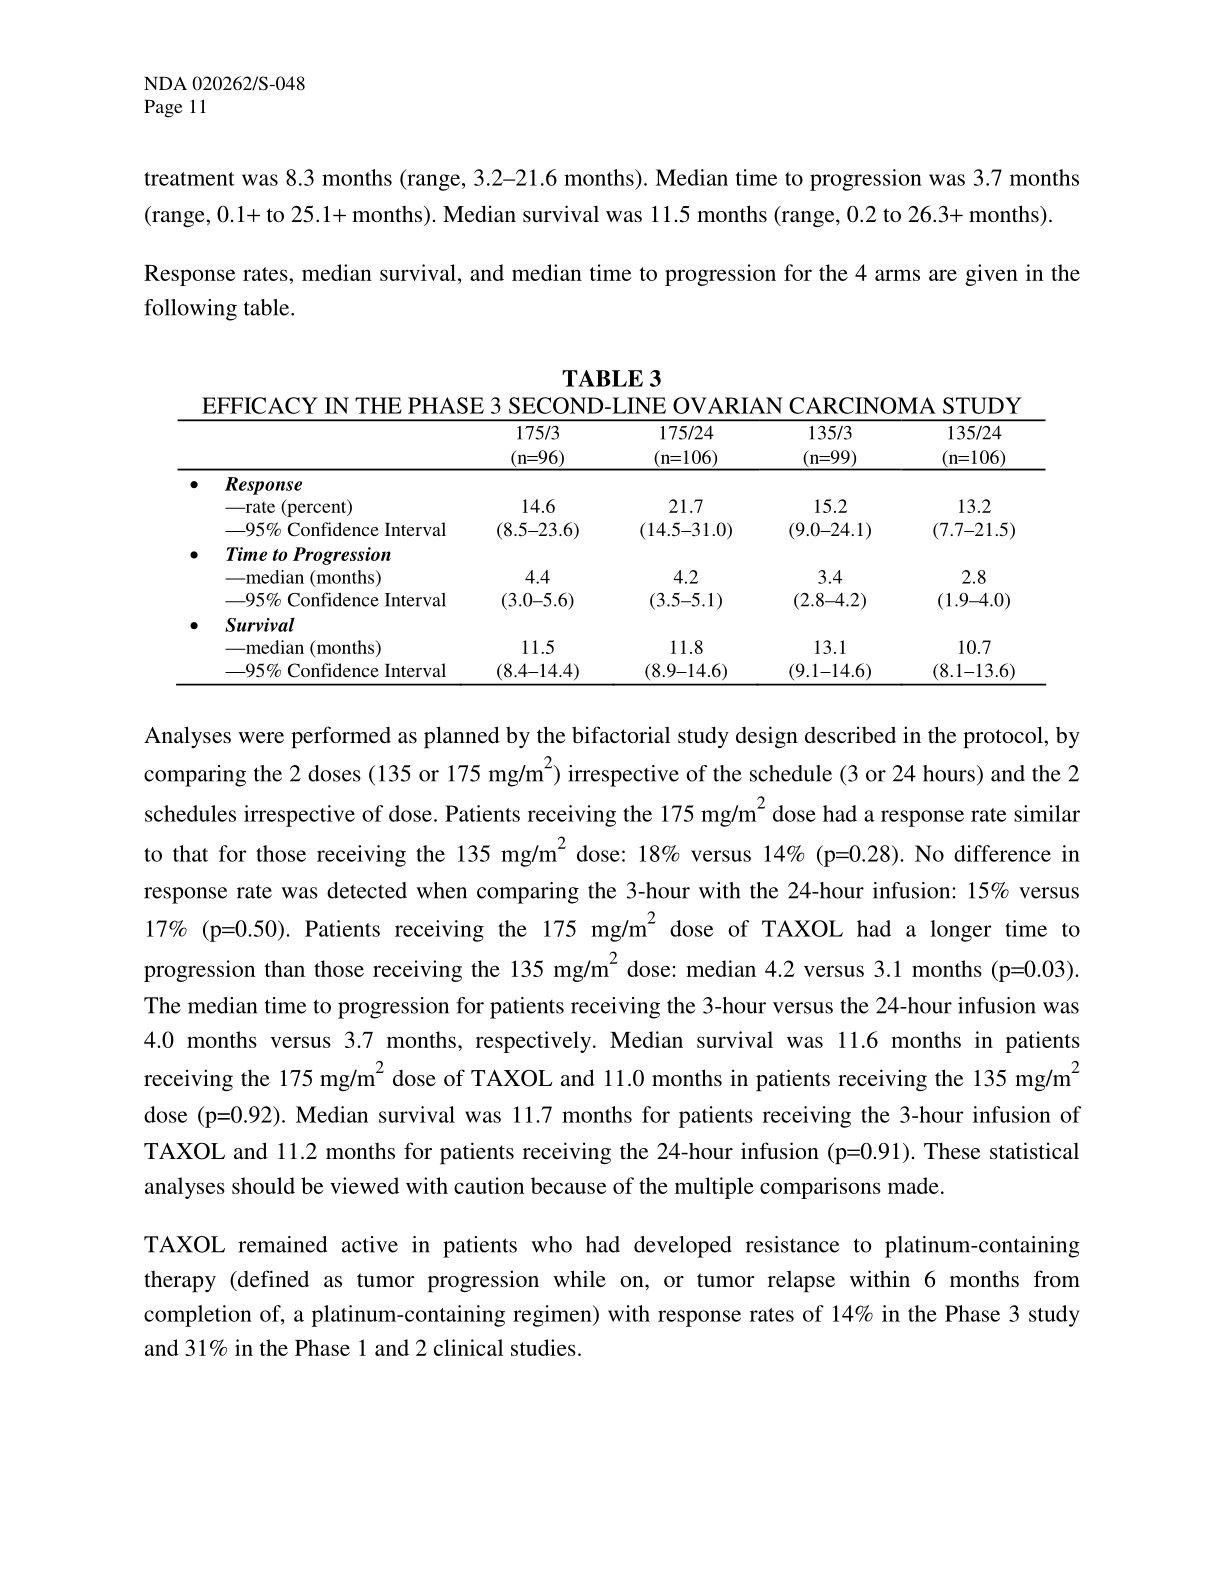partial_lined: (174, 418, 1048, 687)
